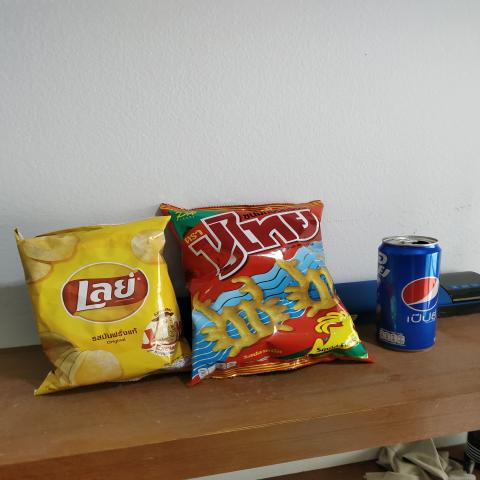pepsi_blue: (364, 234, 448, 354)
